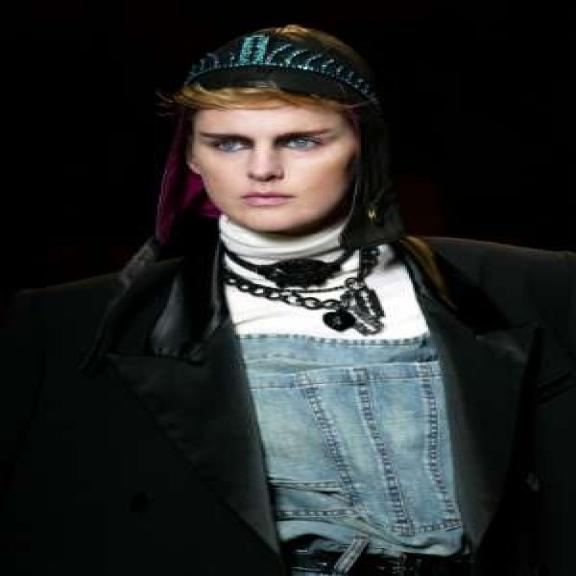face: (178, 92, 380, 248)
